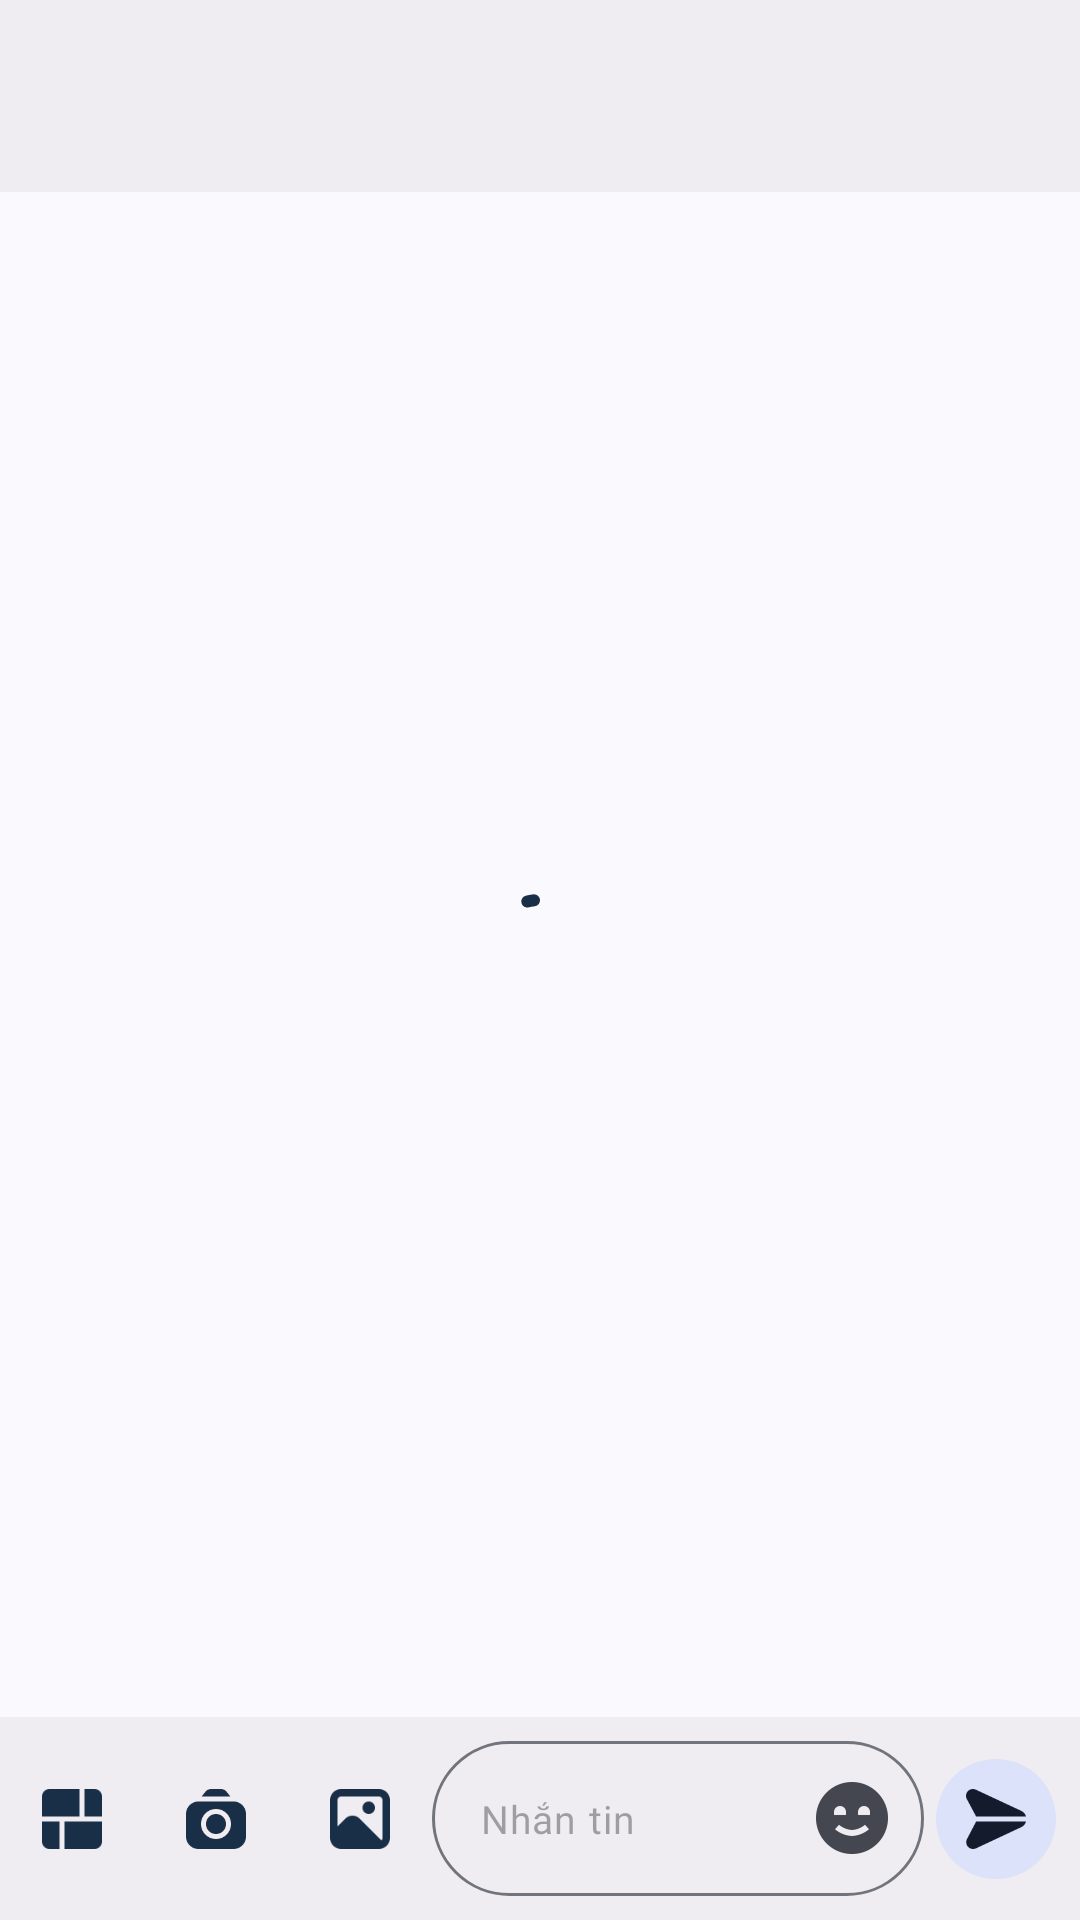

Icons on this 1080 × 1920 Android screen, each with the point to tap as (x,y):
camera: (216,1819)
send: (996,1819)
